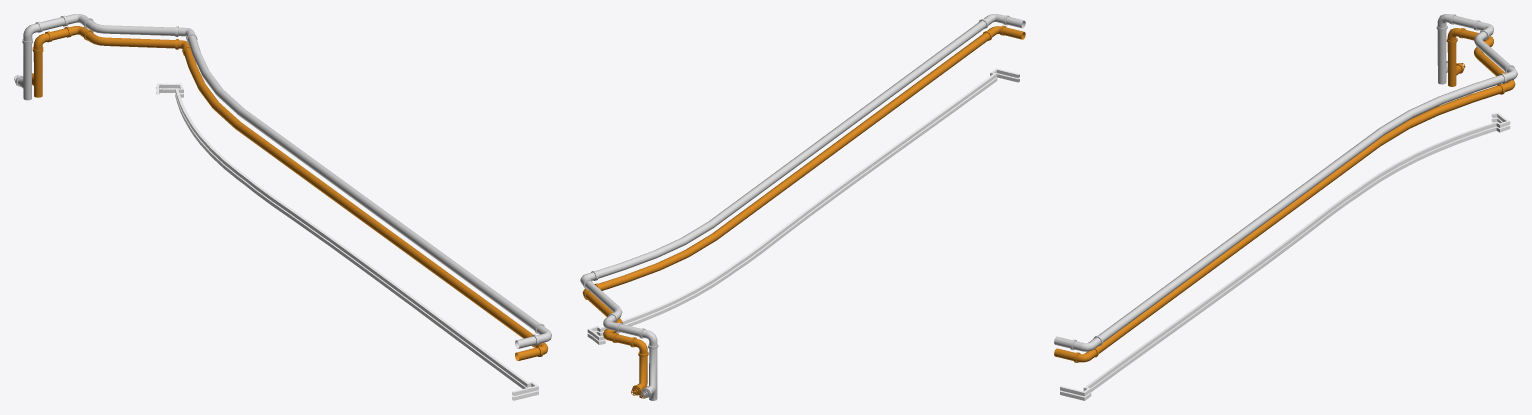
File: SM_H_Building_Tide_Waterway_09h_ATLAS.fbx
3 views of the same model, side by side, from view 1: azimuth 30°, elevation 25°; view 2: azimuth 150°, elevation 25°; view 3: azimuth 330°, elevation 25° (orthographic). The views are drawn at different scales.
Visible parts, largest first — view 1: SM_H_Building_Tide_Waterway_09h_ATLAS; view 2: SM_H_Building_Tide_Waterway_09h_ATLAS; view 3: SM_H_Building_Tide_Waterway_09h_ATLAS.
Part boxes in pixels (left/top/right/bottom): SM_H_Building_Tide_Waterway_09h_ATLAS: left=14, top=14, right=551, bottom=400; SM_H_Building_Tide_Waterway_09h_ATLAS: left=580, top=14, right=1025, bottom=400; SM_H_Building_Tide_Waterway_09h_ATLAS: left=1054, top=14, right=1517, bottom=400.
Size of the model in its own units: 581 by 3646 by 325.
